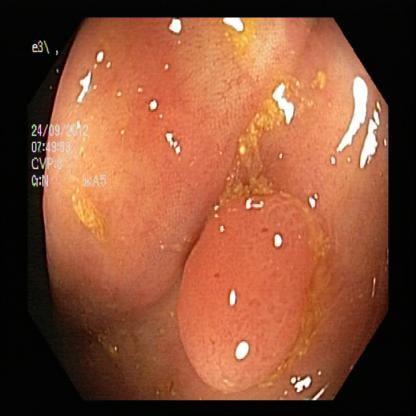Labels: (29, 116, 123, 205), (22, 31, 60, 65)
Polyps: (178, 191, 298, 391)
